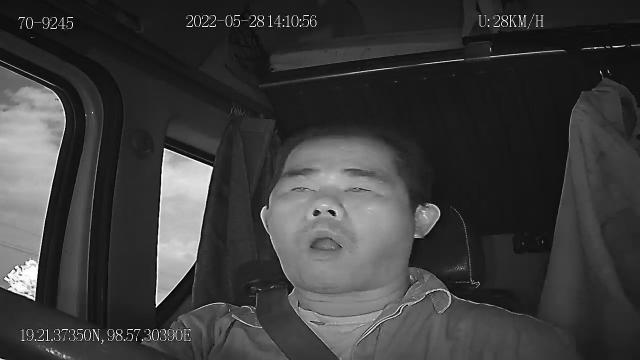SafeDriving: (335, 171, 387, 203), (275, 173, 322, 205)
Seatbelt: (228, 252, 342, 360)
